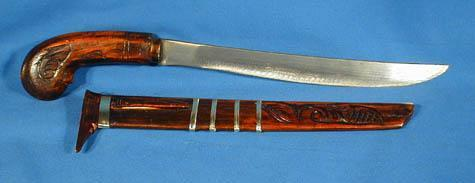espada: (23, 31, 447, 90)
